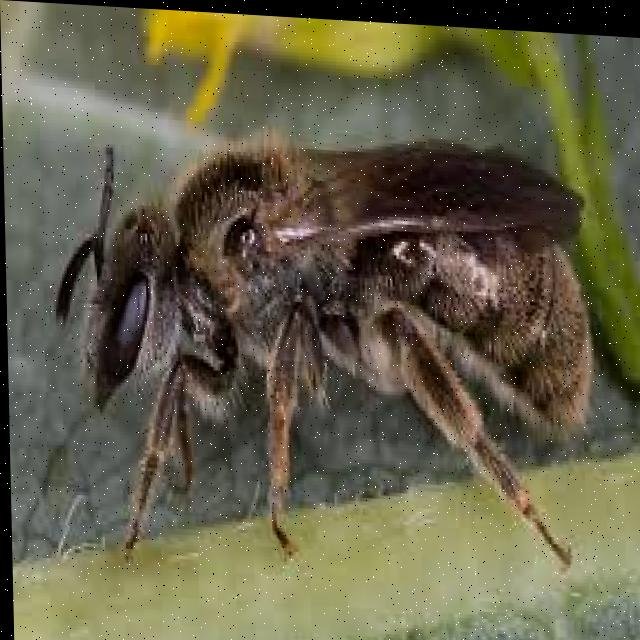Lasioglossum: (39, 99, 599, 551)
